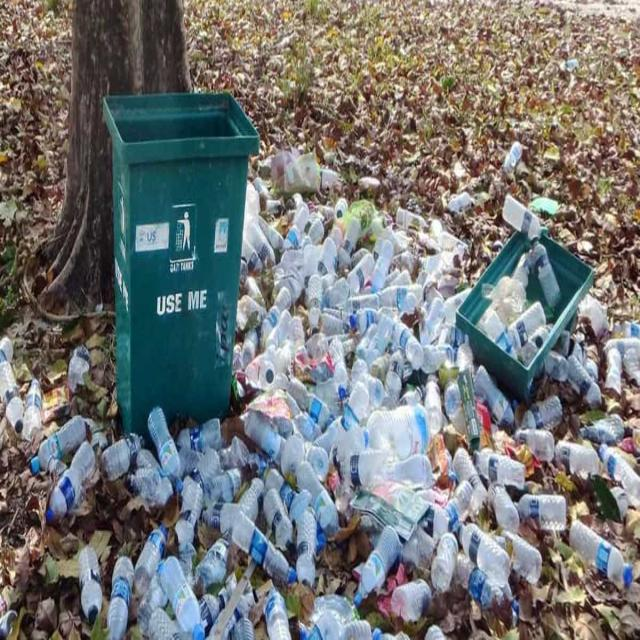garbage: (9, 160, 636, 640)
